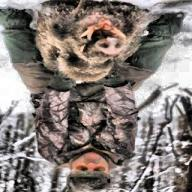boar: (35, 1, 159, 83)
